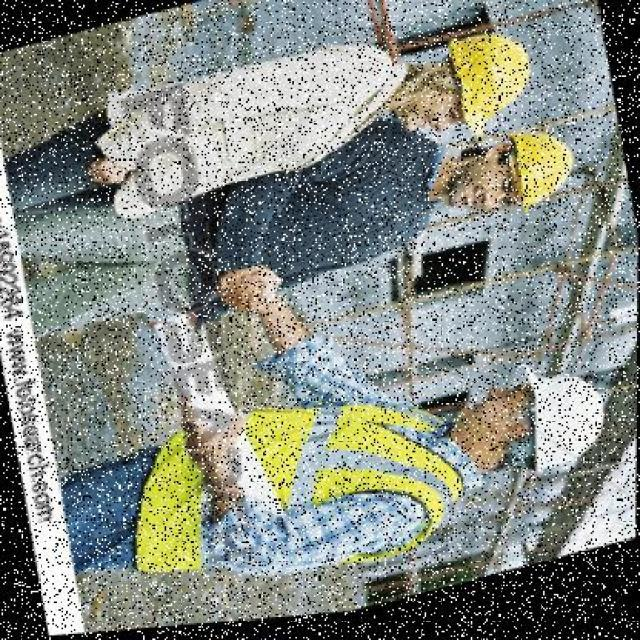helmet: (506, 353, 616, 489), (445, 28, 543, 151), (503, 125, 583, 221)
vest: (113, 366, 465, 627)
